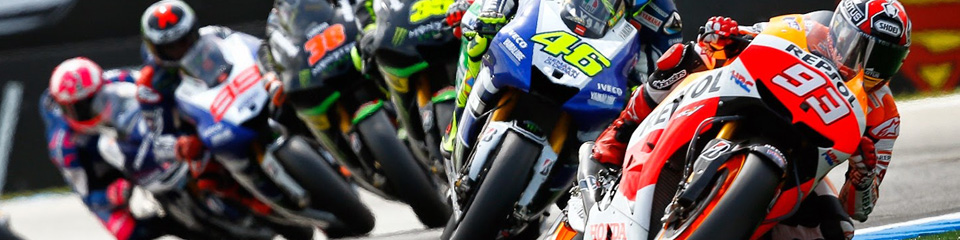helmet: (832, 5, 915, 75), (43, 57, 116, 133), (128, 6, 193, 62)
